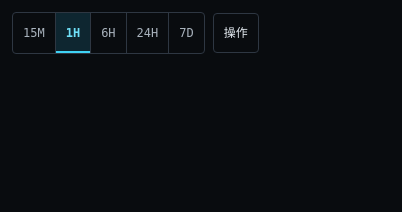
TimeRangeControls › 狭い画面用の「操作」ボタンで、ほかの操作（前へ・今・拡大縮小・期間の選択）を出し入れする
Click the button "操作": (236, 33) [213,13,259,53]
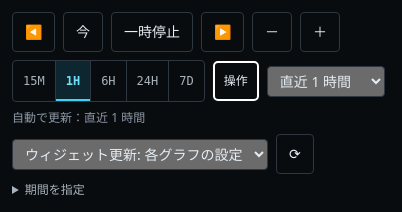
Expected: the button "操作" is expanded, [213,61,259,101]
